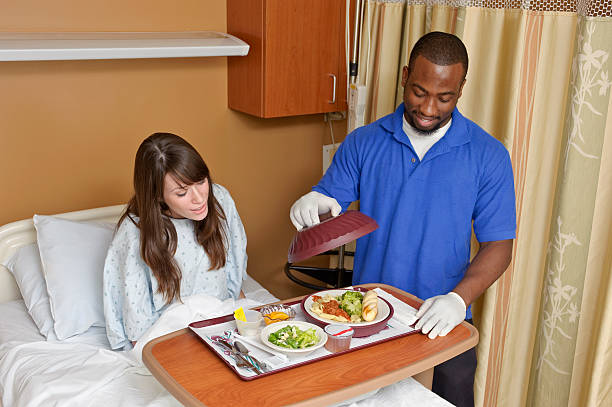cabinet: (225, 2, 348, 111)
countertop: (1, 30, 248, 60)
curtain: (359, 1, 612, 406)
handle: (328, 73, 337, 104)
hospital_bed: (1, 203, 456, 407)
overbed_table: (142, 283, 479, 407)
patient: (104, 132, 247, 350)
staff: (289, 32, 516, 407)
